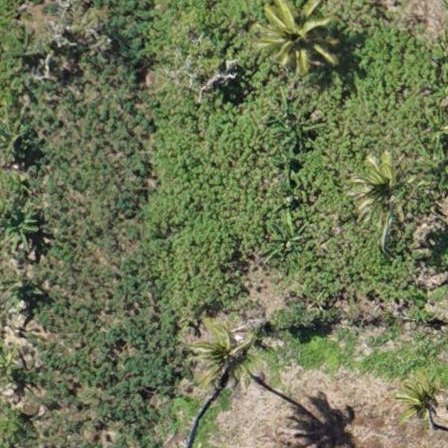palm_tree: (254, 1, 334, 79), (351, 157, 408, 216), (193, 328, 252, 383), (391, 373, 448, 424)
